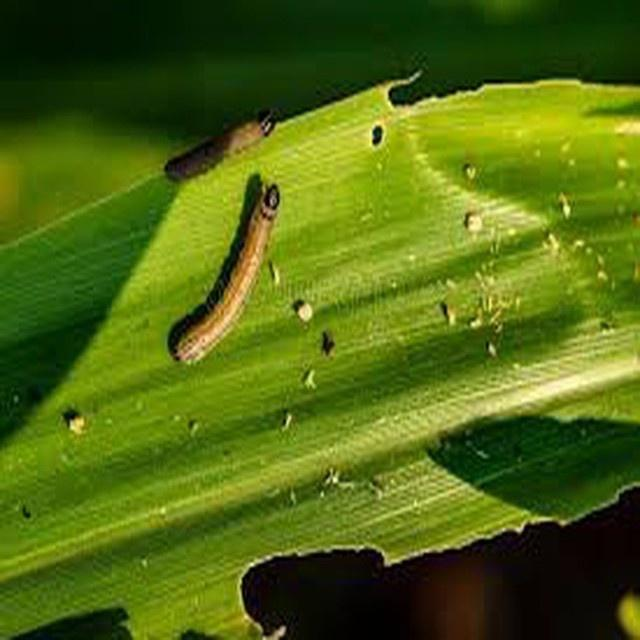Plaga: (169, 190, 286, 363), (166, 118, 281, 178)
